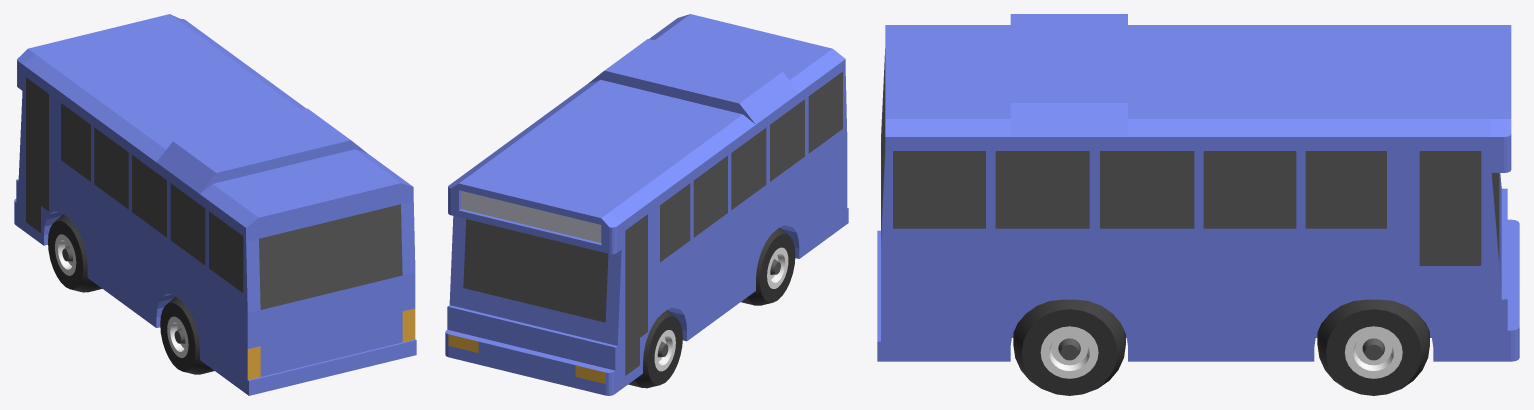
3 renders of one model, left to right at view 1: azimuth 30°, elevation 25°; view 2: azimuth 150°, elevation 25°; view 3: azimuth 270°, elevation 25°, orthographic. The views are drawn at different scales.
Parts seen in each view (by area): view 1: 立方体, wheel_frontLeft, wheel_backLeft; view 2: 立方体, wheel_frontLeft, wheel_backLeft; view 3: 立方体, wheel_frontRight, wheel_backRight.
Part boxes in pixels (<box>): 立方体: <box>14,14,416,395</box>; wheel_frontLeft: <box>48,214,102,292</box>; wheel_backLeft: <box>160,296,214,374</box>; 立方体: <box>445,14,848,395</box>; wheel_frontLeft: <box>628,310,682,388</box>; wheel_backLeft: <box>741,227,795,305</box>; 立方体: <box>877,14,1519,361</box>; wheel_frontRight: <box>1317,299,1429,395</box>; wheel_backRight: <box>1013,299,1125,395</box>.
Size of the model in its own units: 1.4 by 1.7 by 3.42.
